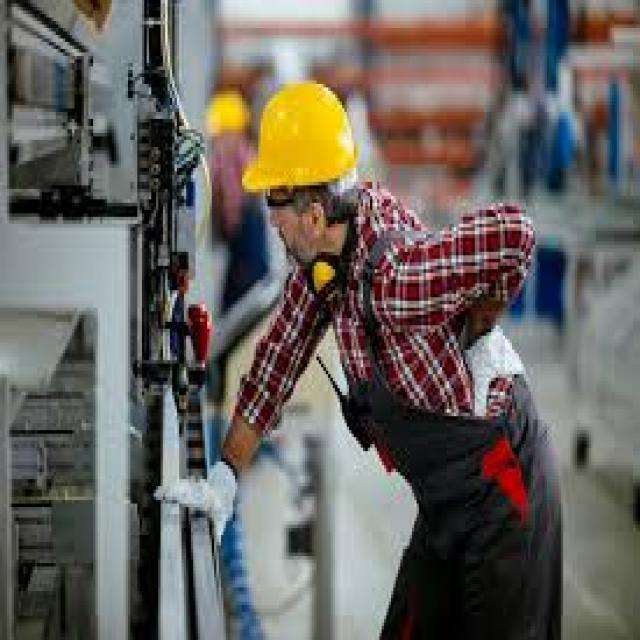Safety-Helmet: (235, 74, 370, 214), (198, 84, 256, 154)
